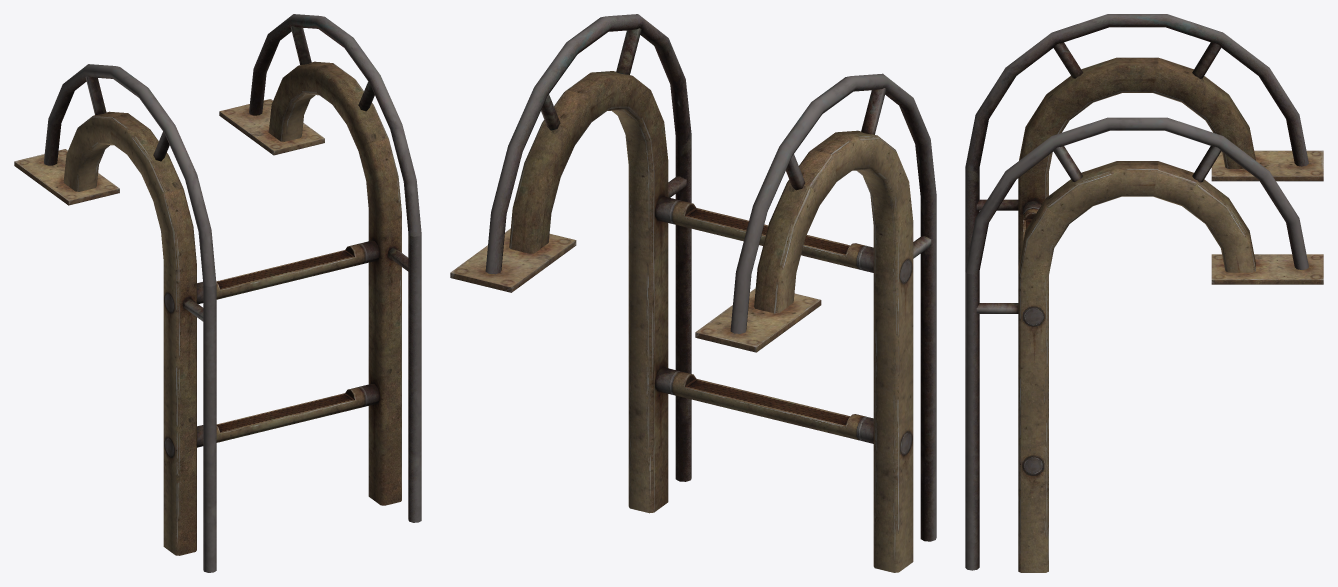
Rendered from ladder_top_pplant.dae.
The picture shows the model from 3 angles, left to right: view 1: azimuth 30°, elevation 25°; view 2: azimuth 150°, elevation 25°; view 3: azimuth 270°, elevation 25°; orthographic projection. The views are drawn at different scales.
Parts seen in each view (by area): view 1: ladder_top_pplant; view 2: ladder_top_pplant; view 3: ladder_top_pplant.
Part boxes in pixels (<box>): ladder_top_pplant: <box>14,14,421,572</box>; ladder_top_pplant: <box>450,14,936,572</box>; ladder_top_pplant: <box>965,14,1323,572</box>.
Size of the model in its own units: 0.9375 by 1.52 by 1.1.
